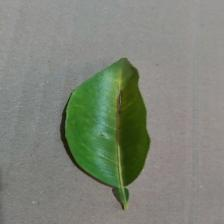greening: (77, 121, 170, 185)
